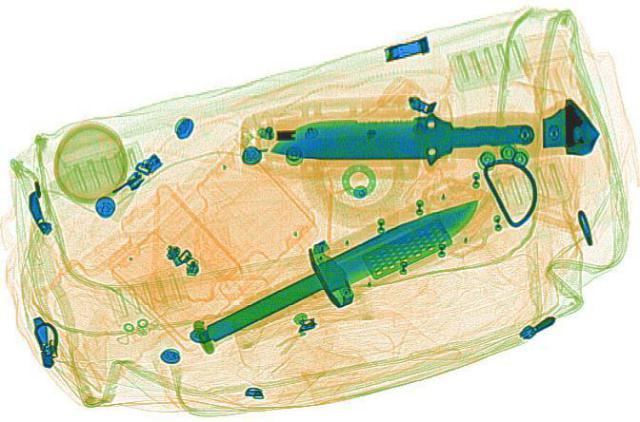Knife: (187, 189, 496, 348), (267, 116, 533, 158)
